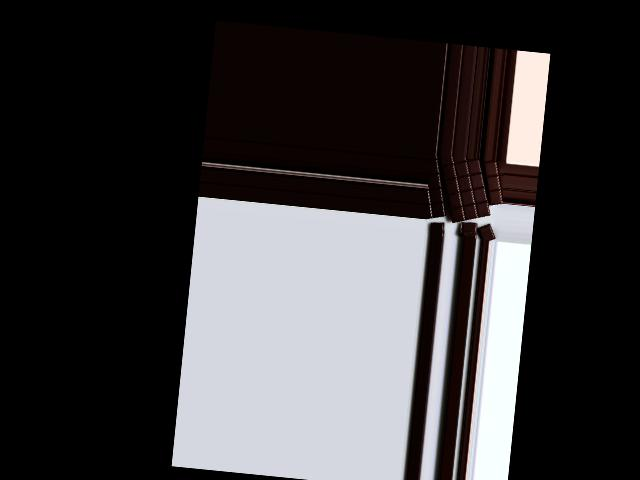chocolate: (435, 154, 496, 225)
